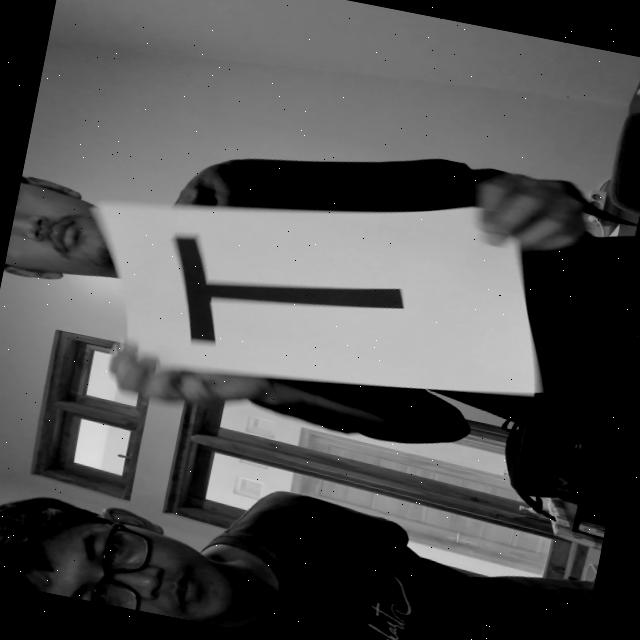t: (146, 209, 442, 389)
